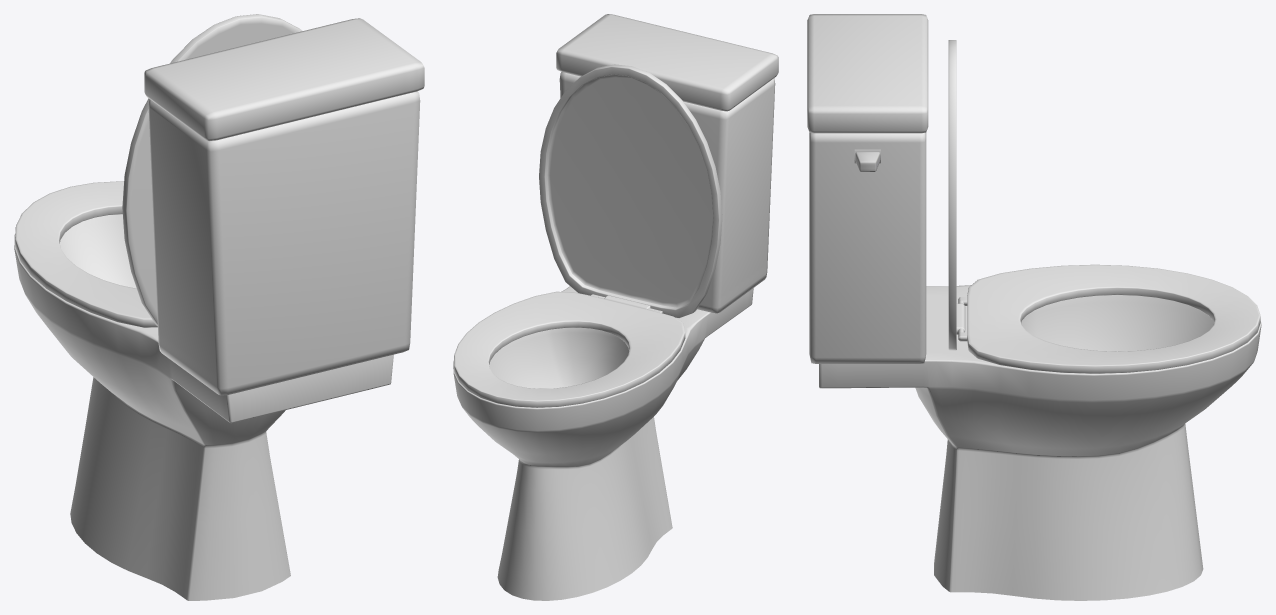
Rendered from Toilet07.glb.
3 views of the same model, side by side, from view 1: azimuth 30°, elevation 25°; view 2: azimuth 150°, elevation 25°; view 3: azimuth 270°, elevation 25° (orthographic). The views are drawn at different scales.
Parts seen in each view (by area): view 1: Toilet07_model, ToiletSeat07, ToiletCover07; view 2: Toilet07_model, ToiletCover07, ToiletSeat07; view 3: Toilet07_model, ToiletSeat07, ToiletCover07.
Part boxes in pixels (x1=…): Toilet07_model: x1=14, y1=18, x2=424, y2=600; ToiletSeat07: x1=15, y1=181, x2=157, y2=327; ToiletCover07: x1=122, y1=14, x2=302, y2=325; Toilet07_model: x1=453, y1=14, x2=778, y2=600; ToiletCover07: x1=539, y1=64, x2=722, y2=318; ToiletSeat07: x1=454, y1=291, x2=685, y2=407; Toilet07_model: x1=807, y1=14, x2=1261, y2=600; ToiletSeat07: x1=958, y1=264, x2=1260, y2=373; ToiletCover07: x1=948, y1=40, x2=965, y2=350.
Size of the model in its own units: 0.8344 by 1.87 by 1.48.
Materials: 1 (1 with a texture image).
